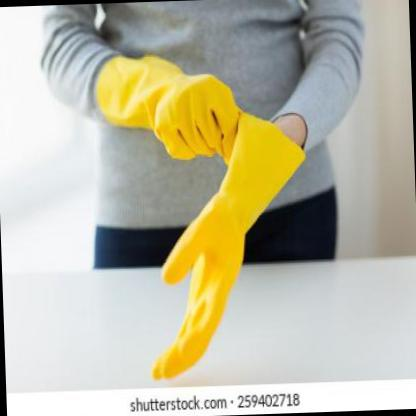Gloves: (144, 111, 314, 378), (96, 51, 239, 170)
